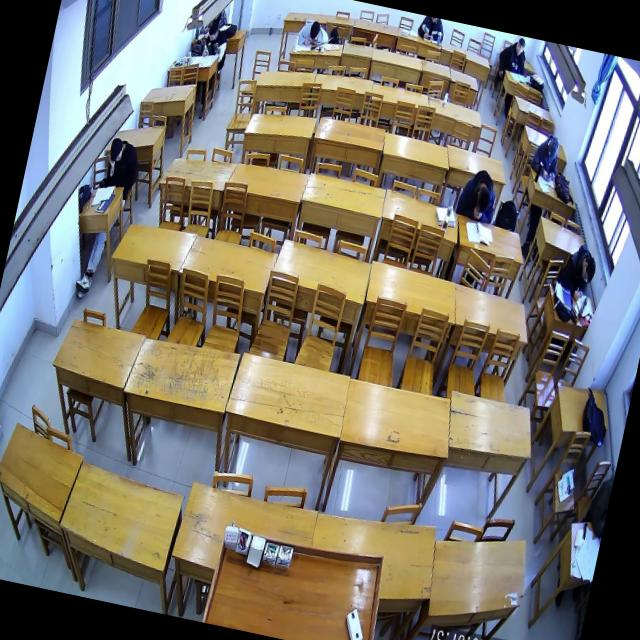bow: (453, 164, 502, 225), (292, 16, 332, 54)
down: (578, 254, 598, 286), (472, 184, 492, 215), (106, 136, 126, 166), (544, 134, 562, 162), (306, 18, 322, 42), (205, 21, 220, 44)
sit: (554, 240, 600, 306), (100, 135, 144, 193), (526, 130, 566, 184), (496, 32, 532, 76), (200, 18, 232, 62)
